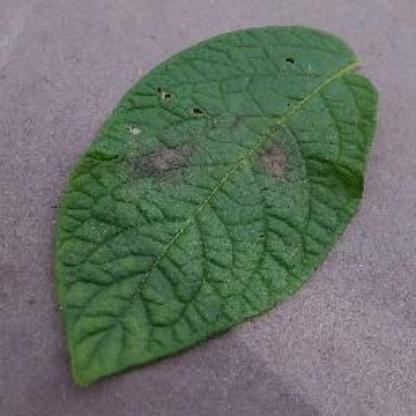Late-Blight: (48, 17, 384, 391)
